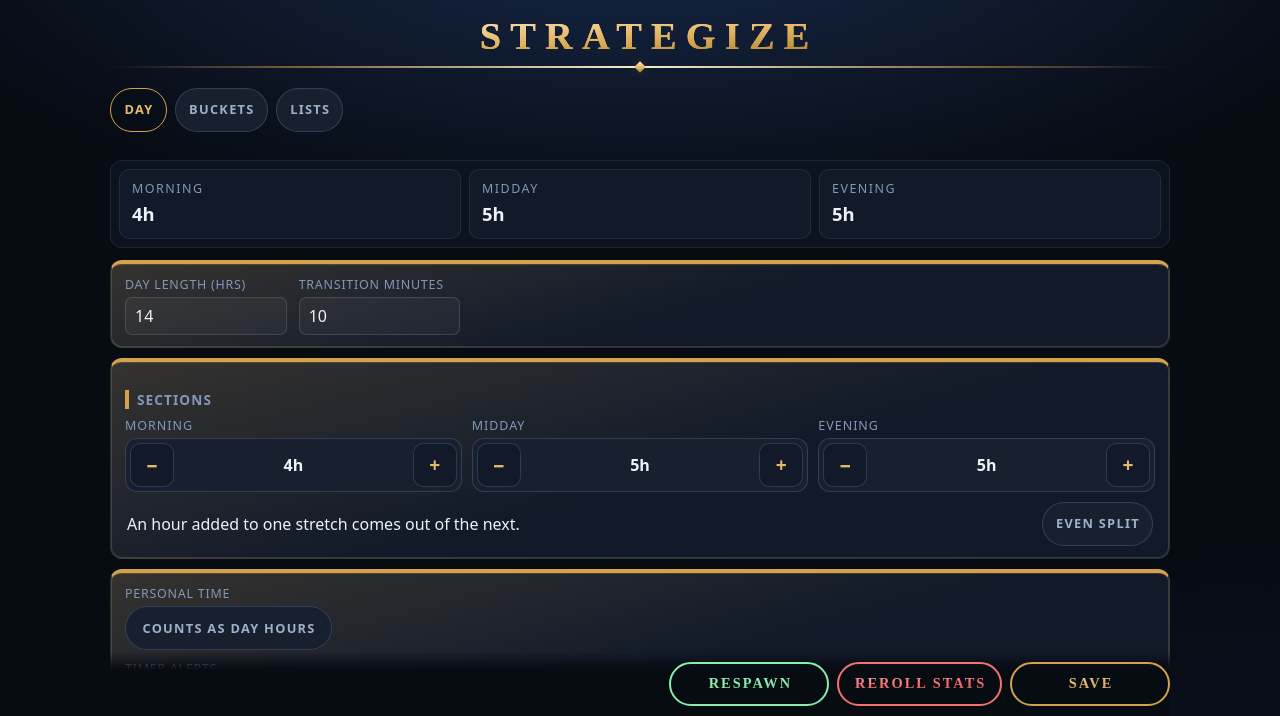
Test case: appointment duration in Lists › shows saved durations as stored, including a 0-duration reminder
The image size is (1280, 716).
Click the button "Lists": point(310, 110) [276,88,344,132]
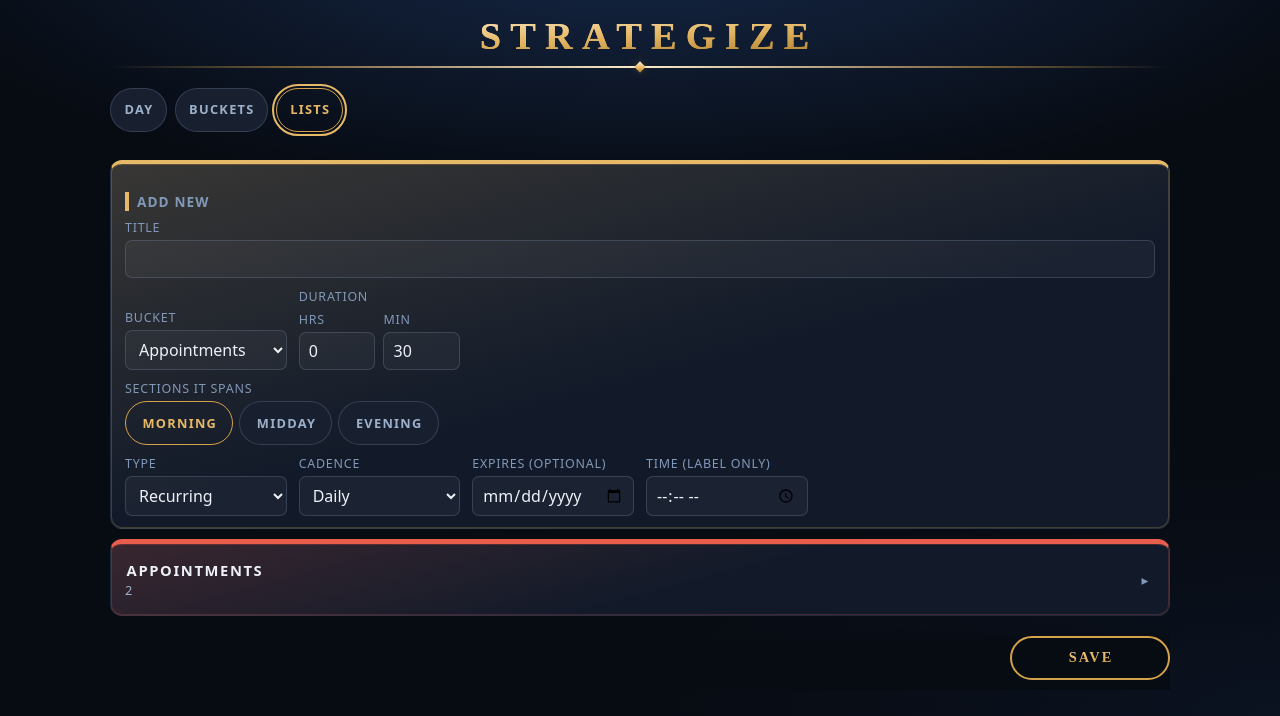
Click the button "Appointments 2": point(195, 570) [125,556,1155,603]
(page scrolled)
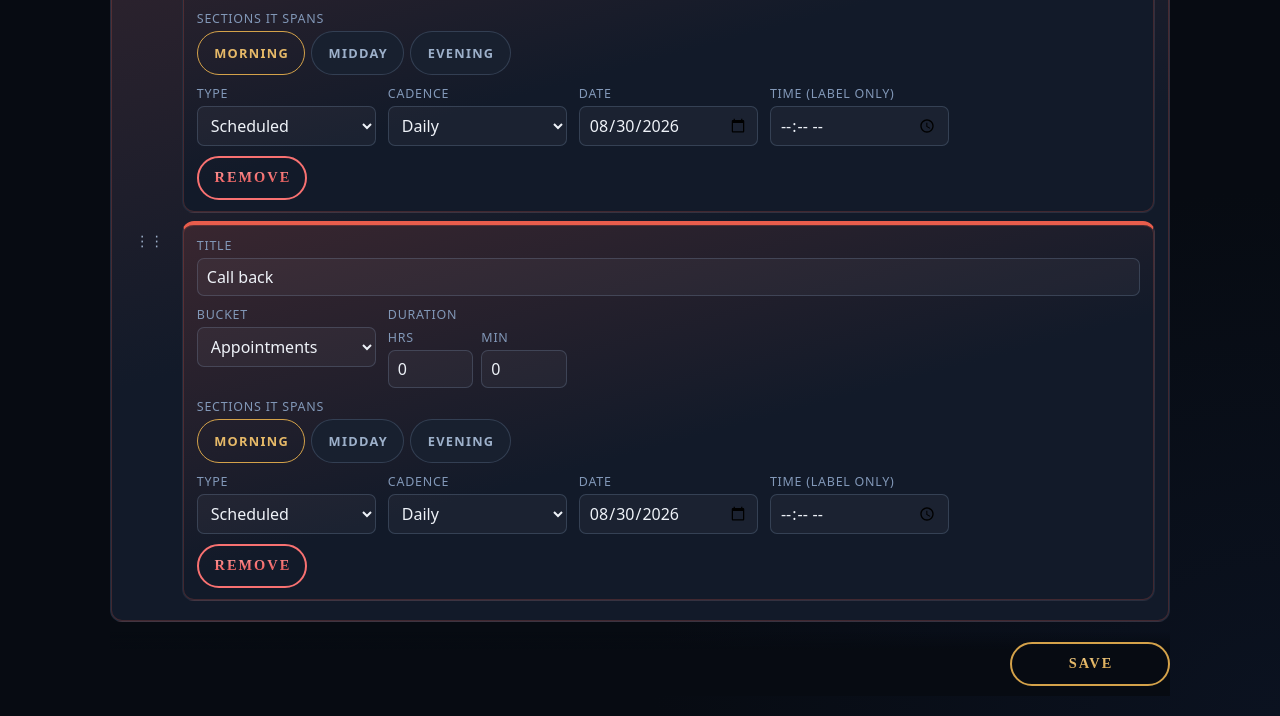
Result: the 2nd number field labelled "Hrs" holds "0" at [388,350,473,388]
Result: the 2nd number field labelled "Min" holds "0" at [481,350,567,388]
